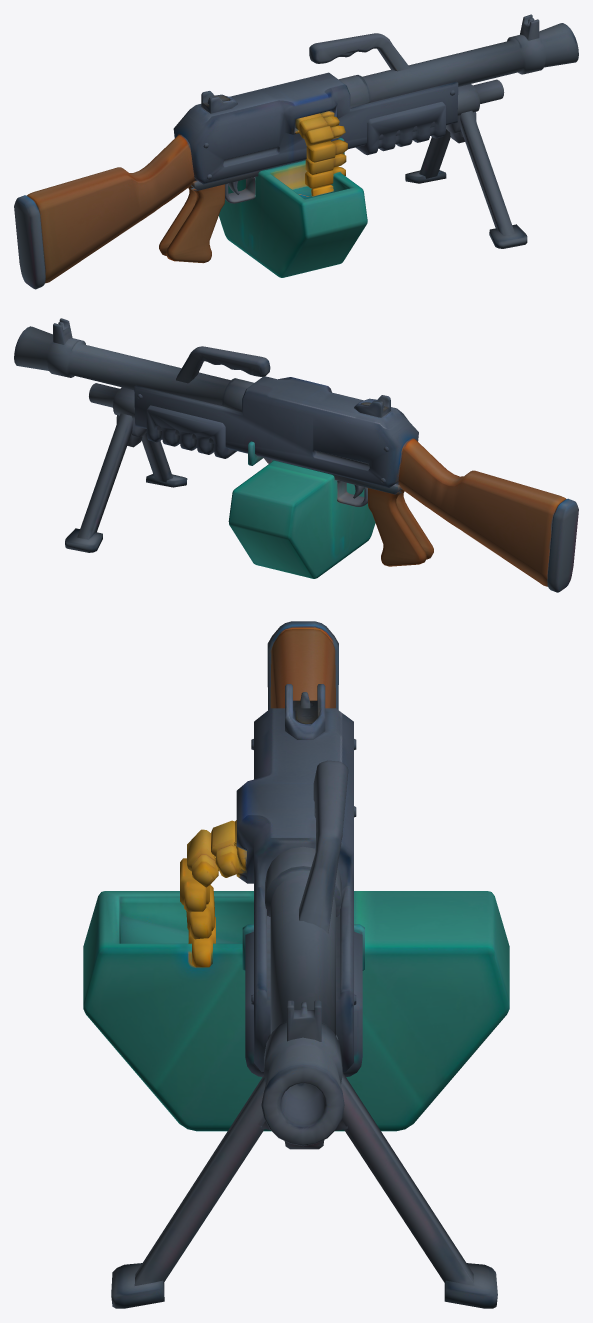
The model's file is wpn_semeuse.glb.
3 views of the same model, one above another, from view 1: azimuth 30°, elevation 25°; view 2: azimuth 150°, elevation 25°; view 3: azimuth 270°, elevation 25° (orthographic). The views are drawn at different scales.
Parts seen in each view (by area): view 1: wpn_semeuse; view 2: wpn_semeuse; view 3: wpn_semeuse.
Boxes of the visible parts, left/top/right/bottom form: wpn_semeuse: left=14, top=14, right=578, bottom=289; wpn_semeuse: left=14, top=318, right=578, bottom=592; wpn_semeuse: left=83, top=621, right=509, bottom=1308.
Size of the model in its own units: 0.9995 by 0.3433 by 0.3354.
1 material, 1 textured.
